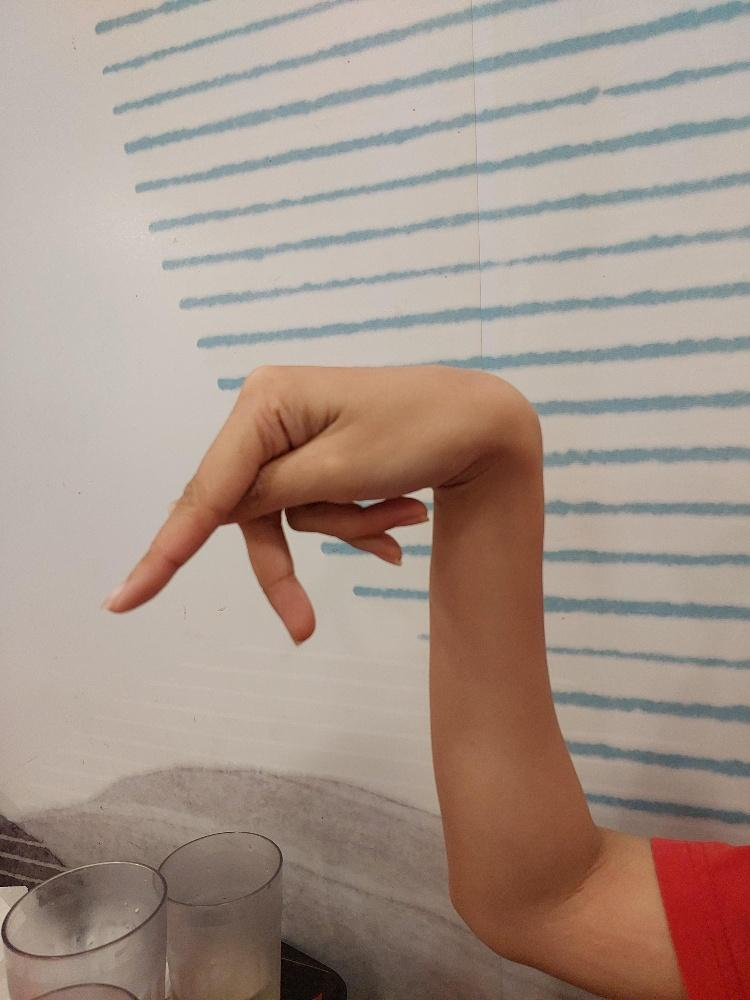p: (96, 360, 485, 647)
